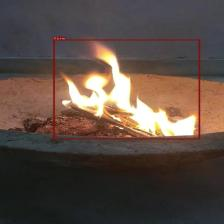fire: (53, 39, 200, 139)
